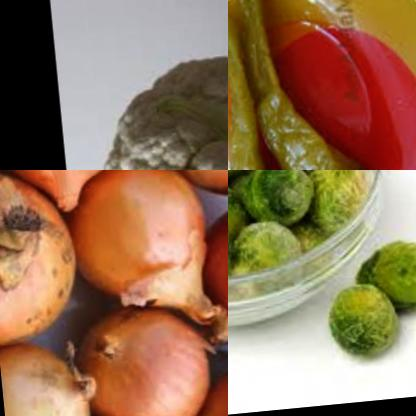brus capusta: (228, 170, 391, 317), (312, 271, 402, 363), (357, 235, 416, 315)
cayliflower: (81, 51, 228, 170)
hot pepper: (228, 0, 391, 170), (228, 0, 275, 170)
onion: (68, 170, 219, 330), (75, 306, 215, 416), (0, 170, 83, 345), (0, 334, 108, 416), (191, 172, 228, 376), (0, 170, 144, 216), (125, 170, 228, 224)
